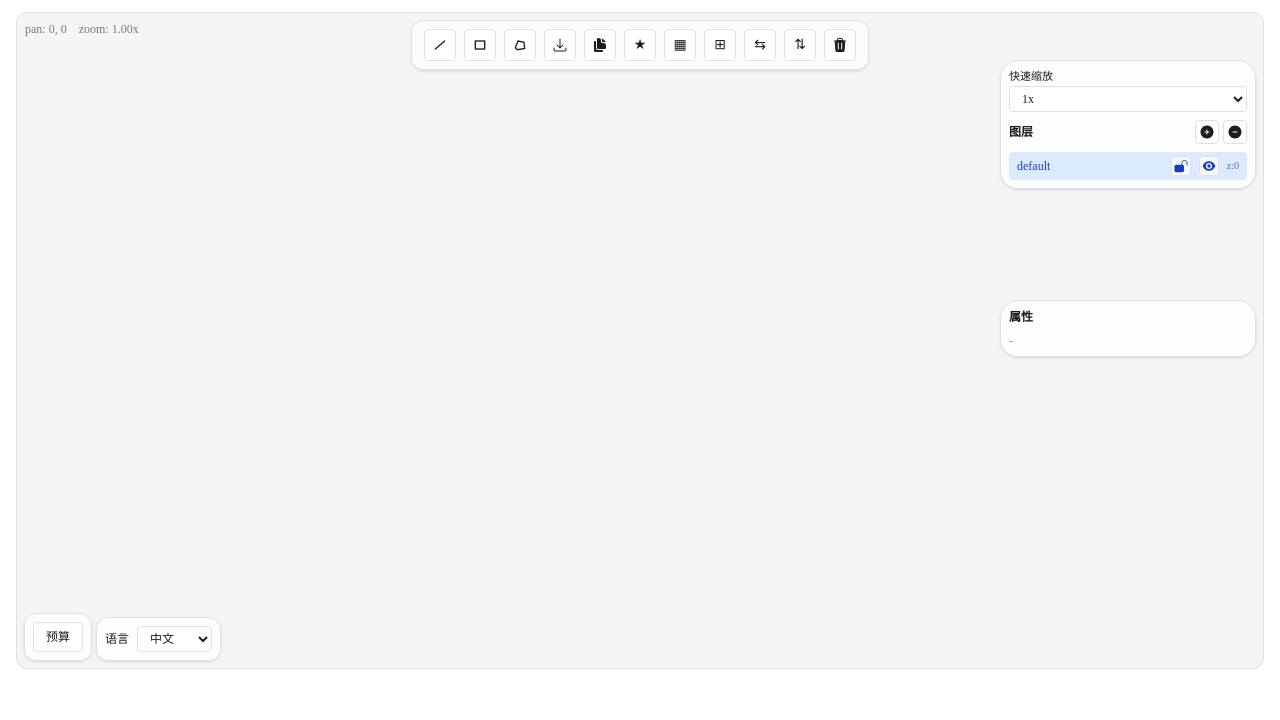
Scenario: EditorPage › toggles default layer visibility from panel
Click the button named "隐藏图层 default" at (1209, 166), box [1199,156,1219,176]
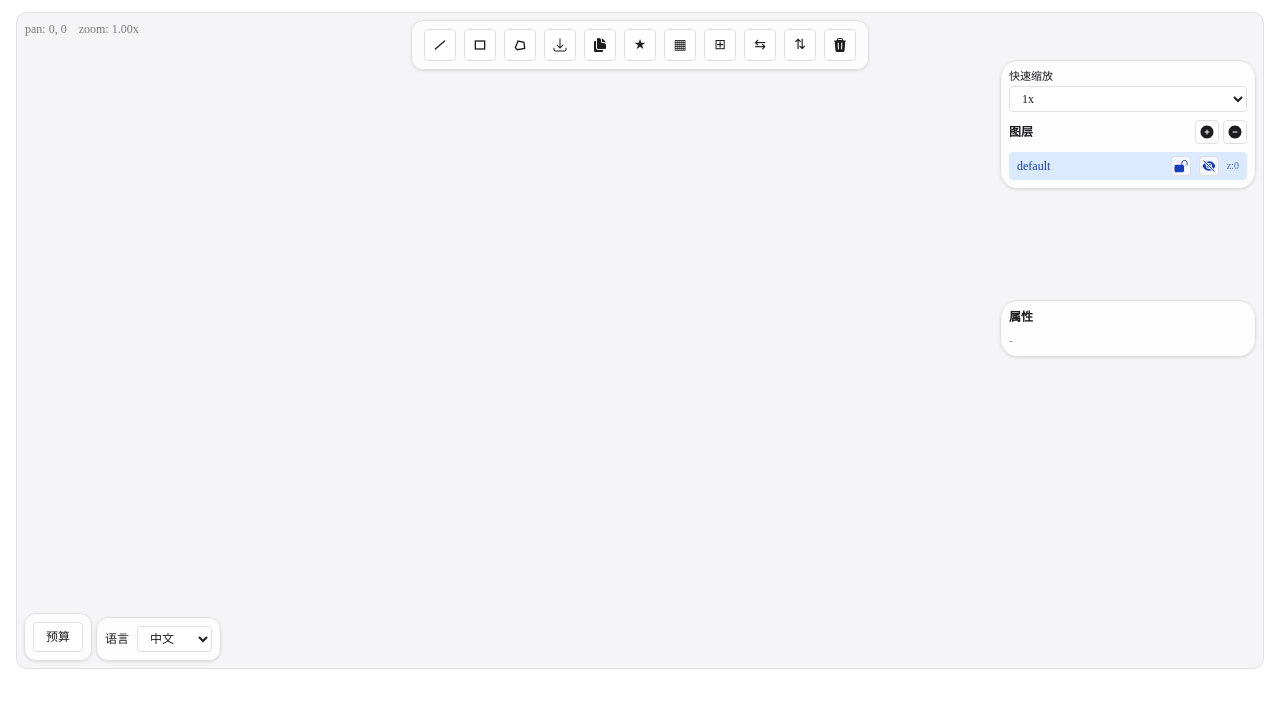
Expected: the button named "显示图层 default" is shown, [1199,156,1219,176]
